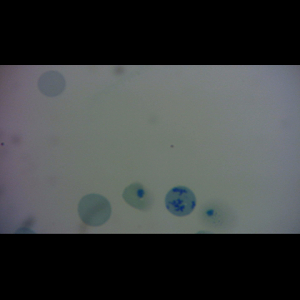aggregate reticulocyte: (163, 185, 198, 218)
erythrocyte: (77, 193, 113, 227), (121, 182, 159, 213), (36, 69, 67, 98)
